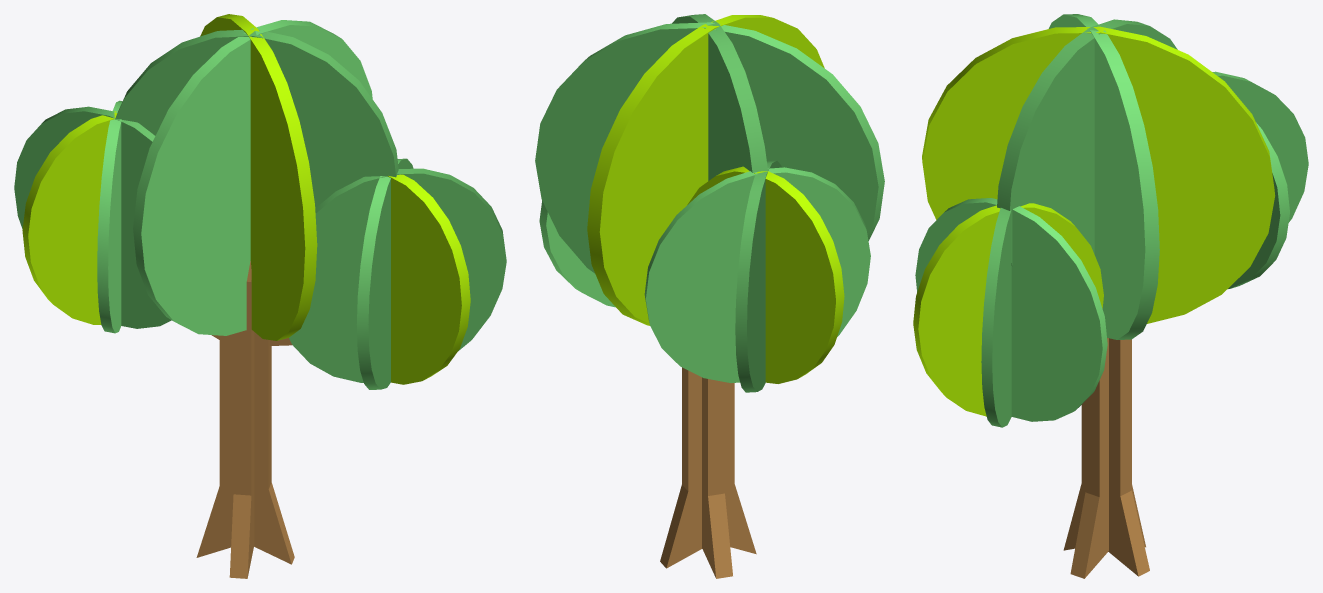
File: arboles.glb
3 renders of one model, left to right at view 1: azimuth 30°, elevation 25°; view 2: azimuth 150°, elevation 25°; view 3: azimuth 270°, elevation 25°, orthographic.
Visible parts, largest first — view 1: Arboles; view 2: Arboles; view 3: Arboles.
Boxes of the visible parts, <box> form: Arboles: <box>14,14,506,578</box>; Arboles: <box>535,14,884,578</box>; Arboles: <box>913,14,1308,578</box>.
Bounding box in the file's own units: 0.7264 × 0.9666 × 0.6512.
